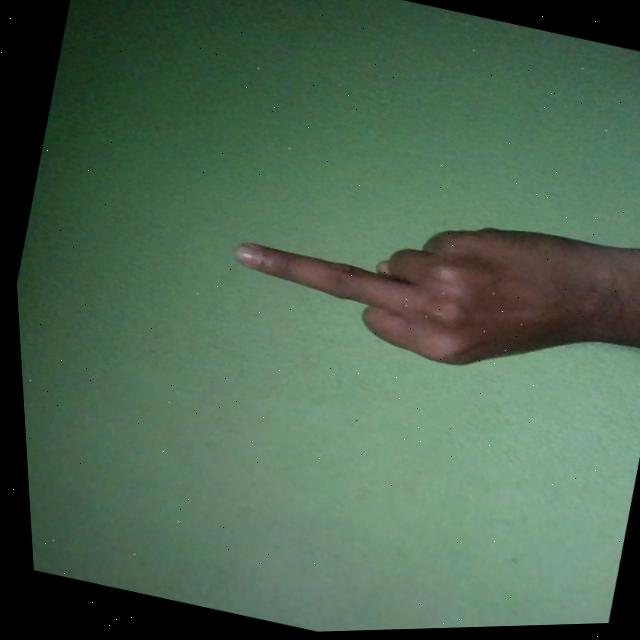Middle Finger: (213, 162, 640, 411)
